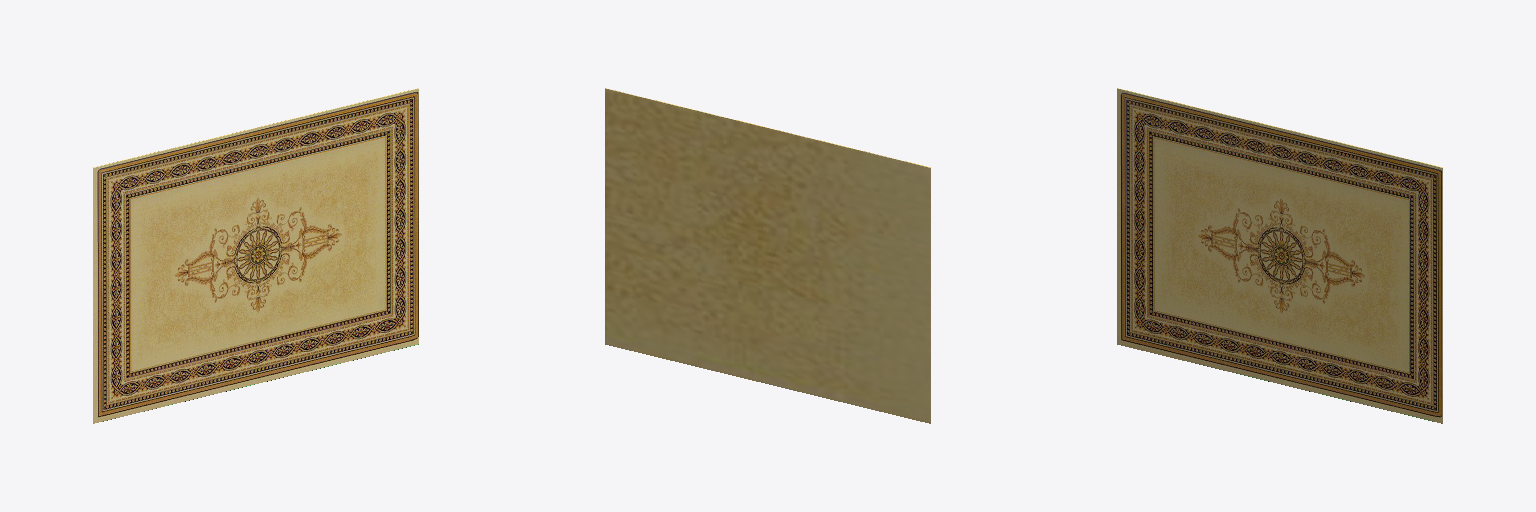
3 renders of one model, left to right at view 1: azimuth 30°, elevation 25°; view 2: azimuth 150°, elevation 25°; view 3: azimuth 330°, elevation 25°, orthographic.
Parts seen in each view (by area): view 1: 10417_Rectangular_rug_v1; view 2: 10417_Rectangular_rug_v1; view 3: 10417_Rectangular_rug_v1.
Part boxes in pixels (x1,y1,x2,y2): 10417_Rectangular_rug_v1: (93,88,418,423); 10417_Rectangular_rug_v1: (605,88,930,423); 10417_Rectangular_rug_v1: (1117,88,1442,423).
Size of the model in its own units: 200 by 150 by 0.6884.
Materials: 1 (1 with a texture image).